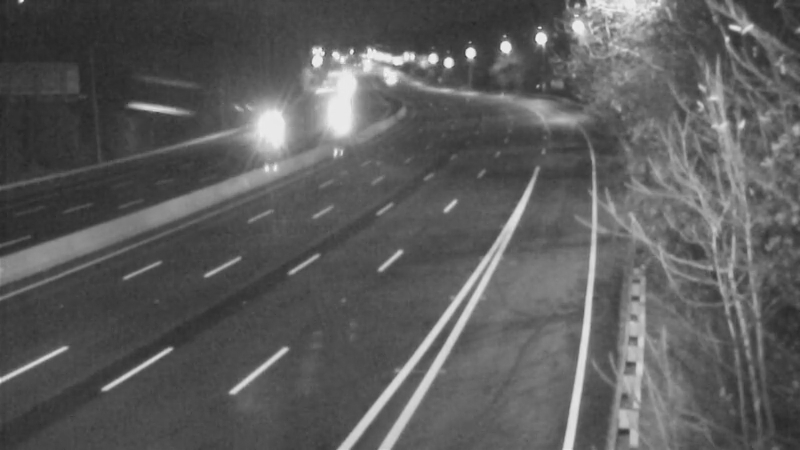vehicle: (366, 54, 416, 104), (251, 96, 301, 146), (316, 85, 366, 135)
